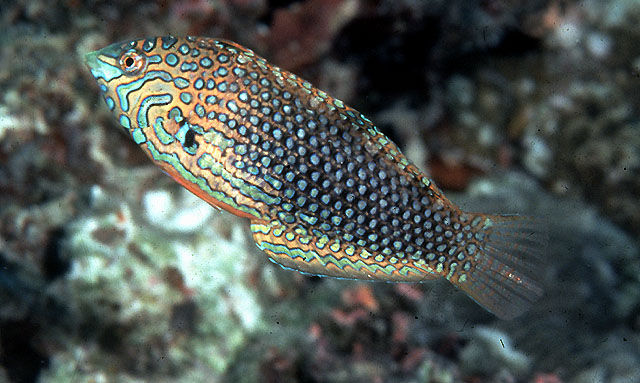fish: (84, 36, 551, 319)
